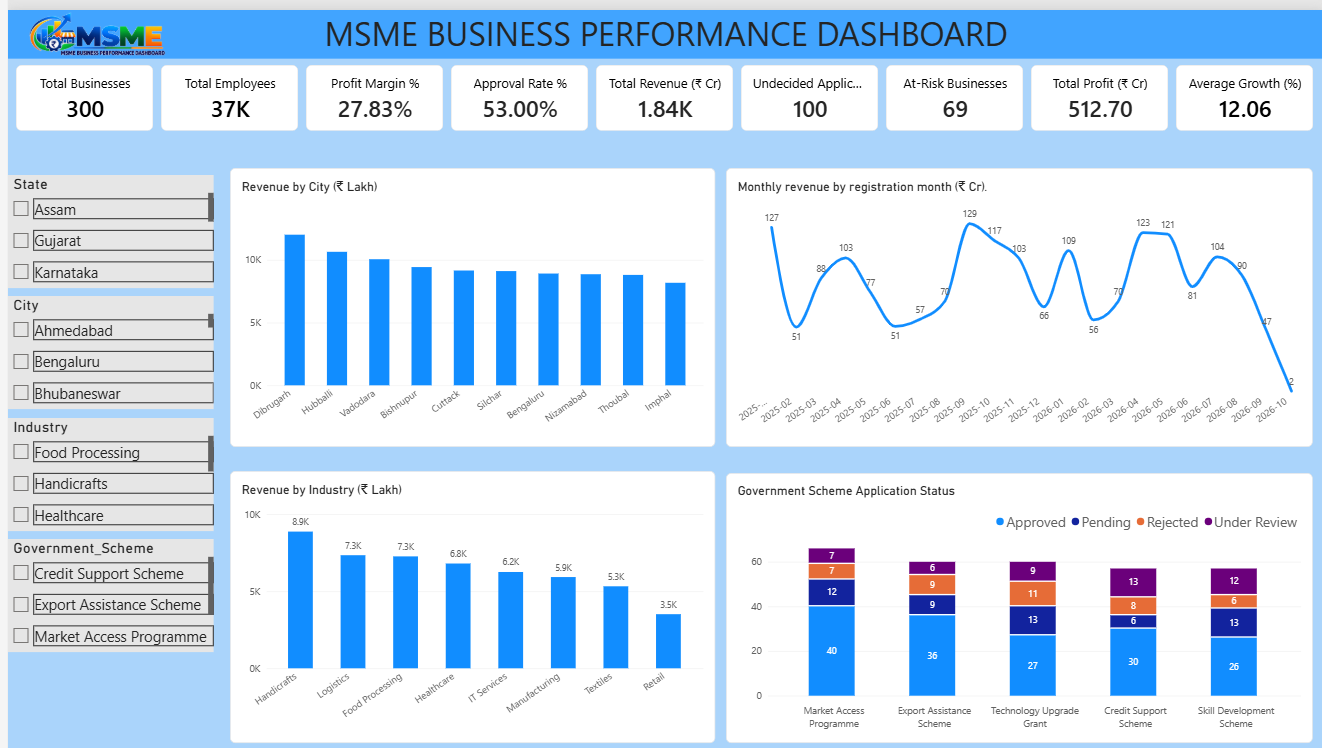

The page's visual inventory and layout, read from the dashboard file:
{"tool":"powerbi","page":{"name":"Page 1","canvas":[1920,1080],"ordinal":0},"visuals":[{"type":"textbox","box":[0,0,1920,71.5],"z":0},{"type":"cardVisual","fields":{"Data":["msme_business_data.Total Businesses"]},"box":[11.7,80.2,200,96.3],"z":1000},{"type":"cardVisual","fields":{"Data":["msme_business_data.Total Employees"]},"box":[223.2,80.2,200,96],"z":2000},{"type":"cardVisual","fields":{"Data":["msme_business_data.Average Growth (%)"]},"box":[1704.1,80.2,200,96],"z":3000},{"type":"clusteredColumnChart","title":"Revenue by City (₹ Lakh)","fields":{"Category":["msme_business_data.City"],"Y":["Sum(msme_business_data.Annual_Revenue_Lakh_INR)"]},"box":[323.9,230.5,707.6,407.1],"z":4000},{"type":"clusteredColumnChart","title":"Revenue by Industry (₹ Lakh)","fields":{"Category":["msme_business_data.Industry"],"Y":["Sum(msme_business_data.Profit_Lakh_INR)"]},"box":[323.9,672.6,707.6,396.8],"z":5000},{"type":"columnChart","title":"Government Scheme Application Status","fields":{"Category":["msme_business_data.Government_Scheme"],"Series":["msme_business_data.Application_Status"],"Y":["CountNonNull(msme_business_data.Business_ID)"]},"box":[1047.5,675.5,856.4,393.9],"z":6000},{"type":"slicer","fields":{"Values":["msme_business_data.Industry"]},"box":[0,594.7,300,165],"z":7000},{"type":"slicer","fields":{"Values":["msme_business_data.State"]},"box":[0,240.6,300,165],"z":8000},{"type":"slicer","fields":{"Values":["msme_business_data.City"]},"box":[0,417.7,300,165],"z":9000},{"type":"slicer","fields":{"Values":["msme_business_data.Government_Scheme"]},"box":[0,771.8,300,165],"z":10000},{"type":"cardVisual","fields":{"Data":["msme_business_data.Approval Rate %"]},"box":[646.3,80.2,200,96],"z":11000},{"type":"cardVisual","fields":{"Data":["msme_business_data.Undecided Applications"]},"box":[1069.4,80.2,200,96],"z":12000},{"type":"cardVisual","fields":{"Data":["msme_business_data.At-Risk Businesses"]},"box":[1281,80.2,200,96],"z":13000},{"type":"cardVisual","fields":{"Data":["msme_business_data.Profit Margin %"]},"box":[434.8,80.2,200,96],"z":14000},{"type":"cardVisual","fields":{"Data":["msme_business_data.Total Profit (₹ Cr)"]},"box":[1492.5,80.2,200,96],"z":15000},{"type":"cardVisual","fields":{"Data":["msme_business_data.Total Revenue (₹ Cr)"]},"box":[857.9,80.2,200,96.3],"z":16000},{"type":"lineChart","title":"Monthly revenue by registration month (₹ Cr).","fields":{"Category":["msme_business_data.Month Label"],"Y":["msme_business_data.Total Revenue (₹ Cr)"]},"box":[1047.5,230.5,856.4,407.1],"z":17000},{"type":"image","box":[0,0,258.2,71.5],"z":17001}]}

Visuals, with their boxes in screenshot pixels (x1, y1, x2, y2), scaled from the page's 1920x1080 canvas onto the 1322x748 screenshot:
textbox: {"x1": 0, "y1": 0, "x2": 1321, "y2": 50}
cardVisual - msme_business_data.Total Businesses: {"x1": 8, "y1": 56, "x2": 146, "y2": 122}
cardVisual - msme_business_data.Total Employees: {"x1": 154, "y1": 56, "x2": 291, "y2": 122}
cardVisual - msme_business_data.Average Growth (%): {"x1": 1173, "y1": 56, "x2": 1311, "y2": 122}
"Revenue by City (₹ Lakh)" clusteredColumnChart: {"x1": 223, "y1": 160, "x2": 710, "y2": 442}
"Revenue by Industry (₹ Lakh)" clusteredColumnChart: {"x1": 223, "y1": 466, "x2": 710, "y2": 741}
"Government Scheme Application Status" columnChart: {"x1": 721, "y1": 468, "x2": 1311, "y2": 741}
slicer - msme_business_data.Industry: {"x1": 0, "y1": 412, "x2": 207, "y2": 526}
slicer - msme_business_data.State: {"x1": 0, "y1": 167, "x2": 207, "y2": 281}
slicer - msme_business_data.City: {"x1": 0, "y1": 289, "x2": 207, "y2": 404}
slicer - msme_business_data.Government_Scheme: {"x1": 0, "y1": 535, "x2": 207, "y2": 649}
cardVisual - msme_business_data.Approval Rate %: {"x1": 445, "y1": 56, "x2": 583, "y2": 122}
cardVisual - msme_business_data.Undecided Applications: {"x1": 736, "y1": 56, "x2": 874, "y2": 122}
cardVisual - msme_business_data.At-Risk Businesses: {"x1": 882, "y1": 56, "x2": 1020, "y2": 122}
cardVisual - msme_business_data.Profit Margin %: {"x1": 299, "y1": 56, "x2": 437, "y2": 122}
cardVisual - msme_business_data.Total Profit (₹ Cr): {"x1": 1028, "y1": 56, "x2": 1165, "y2": 122}
cardVisual - msme_business_data.Total Revenue (₹ Cr): {"x1": 591, "y1": 56, "x2": 728, "y2": 122}
"Monthly revenue by registration month (₹ Cr)." lineChart: {"x1": 721, "y1": 160, "x2": 1311, "y2": 442}
image: {"x1": 0, "y1": 0, "x2": 178, "y2": 50}
